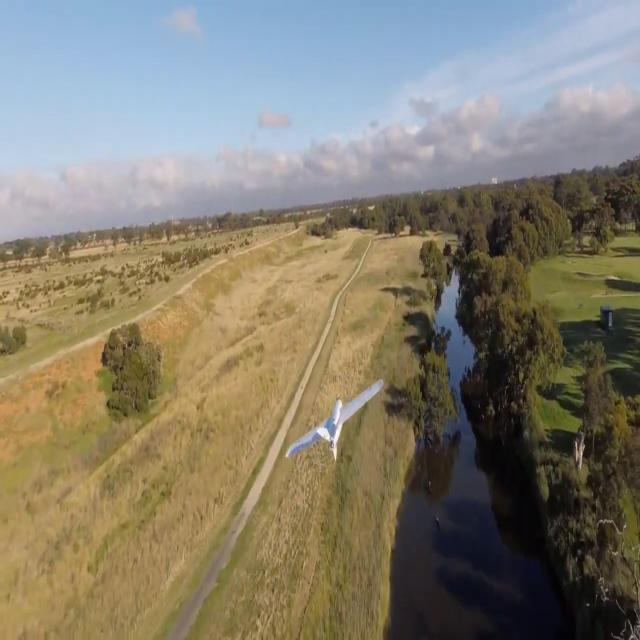iha: (316, 417, 351, 421)
